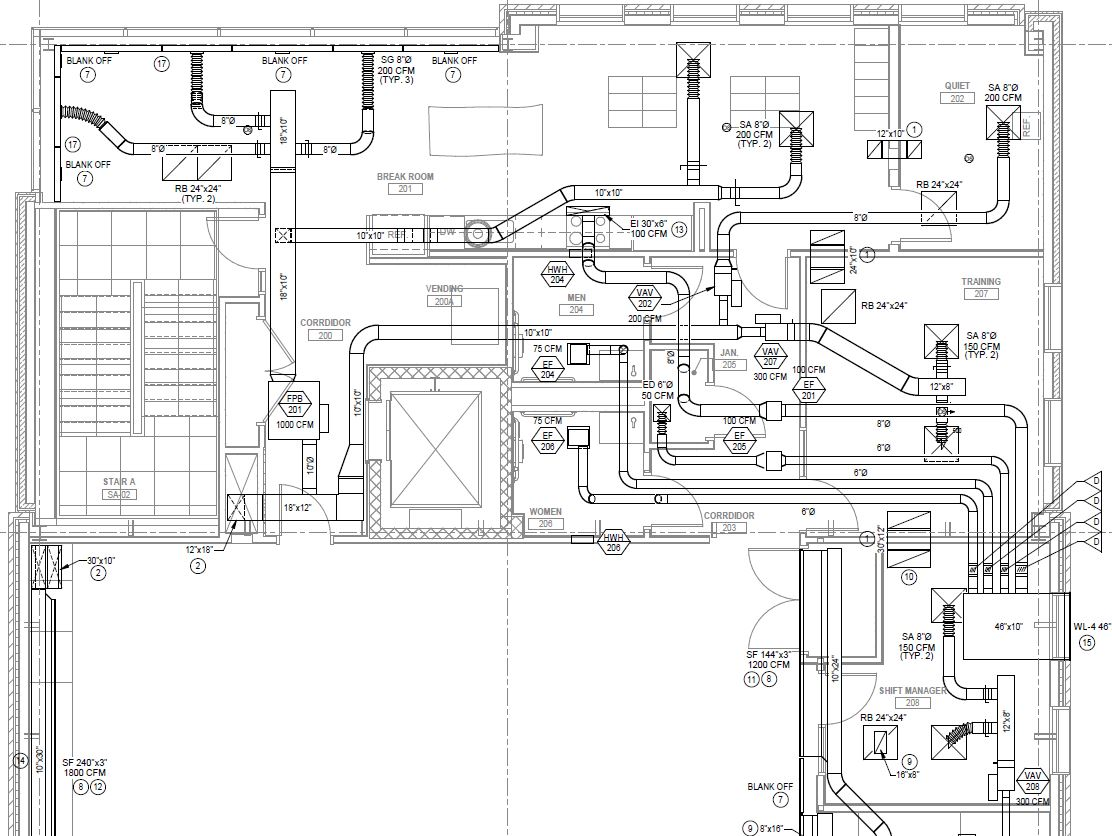VAV Box: (987, 748, 1023, 815), (709, 252, 748, 311), (745, 305, 804, 344)
